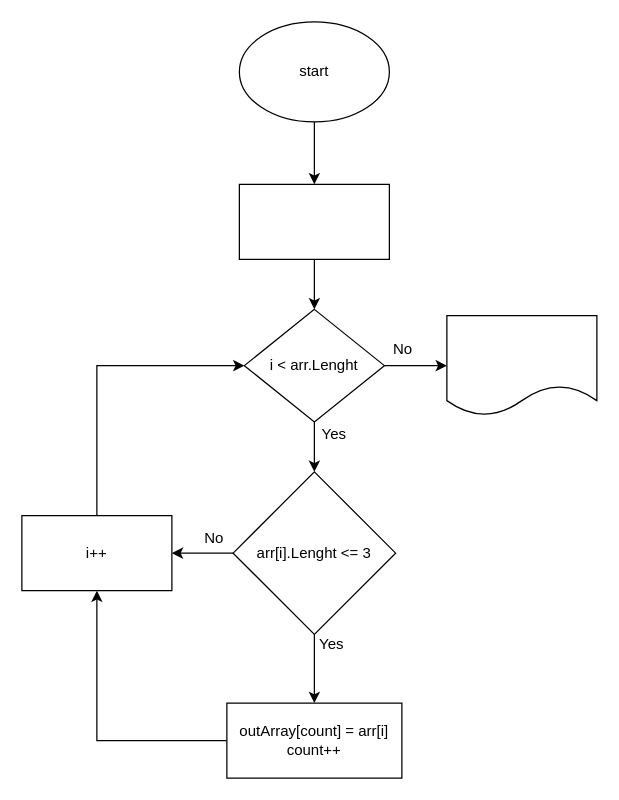
This 619x800 diagram has some shape labels left out. Each missing label, with the centre of its shape:
arr[] outArray[arr.Lenght] count = 0 i = 0: the point at 313,221
outArray[]: the point at 521,365
